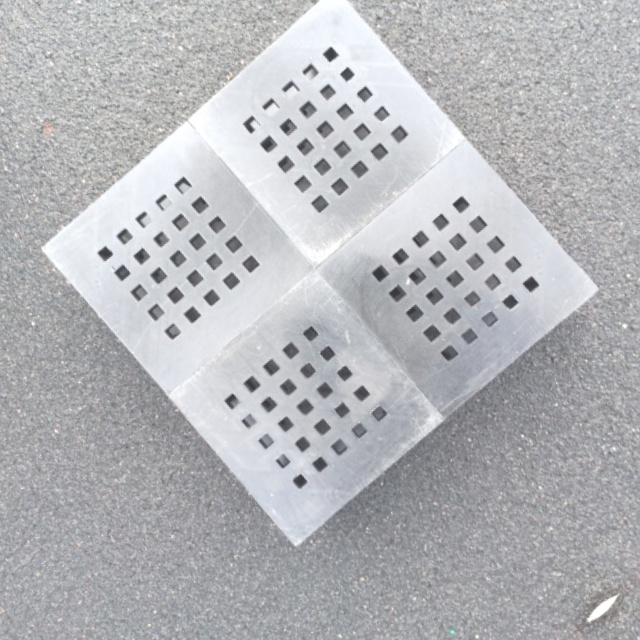pallet: (28, 0, 617, 555)
